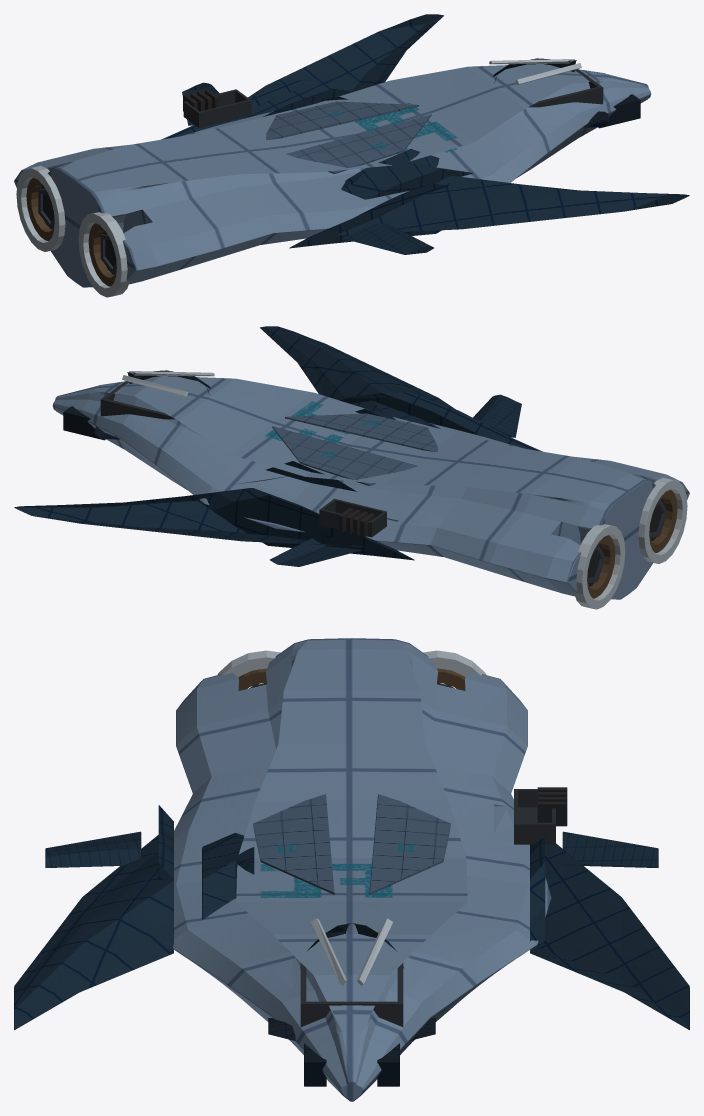
File: hornet_production_v1_lod1.glb
3 views of the same model, one above another, from view 1: azimuth 30°, elevation 25°; view 2: azimuth 150°, elevation 25°; view 3: azimuth 270°, elevation 25° (orthographic). The views are drawn at different scales.
Parts seen in each view (by area): view 1: LOD1_Hull, Wing_Port.001, Wing_Stbd.001, SaddlePanel_Port.001, Wing_Port_RootFairing.001, SaddlePanel_Stbd.001, DriveFlange_Port.001, DriveFlange_Stbd.001, Wing_Port_Flap.001, DriveCeramic_Port.001, DriveCeramic_Stbd.001, CanopyTub_C188_Port.001 (+3 smaller); view 2: LOD1_Hull, Wing_Stbd.001, Wing_Port.001, SaddlePanel_Stbd.001, SaddlePanel_Port.001, DriveFlange_Stbd.001, DriveFlange_Port.001, Wing_Stbd_Flap.001, Wing_Port_Flap.001, DriveCeramic_Stbd.001, DriveCeramic_Port.001, Wing_Stbd_RootFairing.001 (+3 smaller); view 3: LOD1_Hull, Wing_Port.001, Wing_Stbd.001, SaddlePanel_Port.001, SaddlePanel_Stbd.001, Wing_Port_RootFairing.001, Wing_Port_Flap.001, Wing_Stbd_Flap.001, CanopyTub_C188_Fore.001, DriveFlange_Port.001, DriveFlange_Stbd.001, RadiatorCassette_C188_Fore.001 (+2 smaller).
Part boxes in pixels (<box>): LOD1_Hull: <box>14,64,651,287</box>; Wing_Port.001: <box>289,176,689,248</box>; Wing_Stbd.001: <box>161,14,443,139</box>; SaddlePanel_Port.001: <box>286,114,431,173</box>; Wing_Port_RootFairing.001: <box>341,149,473,199</box>; SaddlePanel_Stbd.001: <box>266,101,418,139</box>; DriveFlange_Port.001: <box>78,212,129,297</box>; DriveFlange_Stbd.001: <box>16,165,65,251</box>; Wing_Port_Flap.001: <box>342,222,433,254</box>; DriveCeramic_Port.001: <box>88,223,116,286</box>; DriveCeramic_Stbd.001: <box>26,177,54,240</box>; CanopyTub_C188_Port.001: <box>528,87,599,107</box>; LOD1_Hull: <box>52,376,689,599</box>; Wing_Stbd.001: <box>14,488,414,560</box>; Wing_Port.001: <box>260,326,542,451</box>; SaddlePanel_Stbd.001: <box>272,426,417,485</box>; SaddlePanel_Port.001: <box>285,413,437,451</box>; DriveFlange_Stbd.001: <box>574,524,625,609</box>; DriveFlange_Port.001: <box>638,477,687,563</box>; Wing_Stbd_Flap.001: <box>270,534,361,566</box>; Wing_Port_Flap.001: <box>473,394,521,437</box>; DriveCeramic_Stbd.001: <box>587,535,615,598</box>; DriveCeramic_Port.001: <box>649,489,677,552</box>; Wing_Stbd_RootFairing.001: <box>233,461,356,491</box>; LOD1_Hull: <box>173,638,551,1101</box>; Wing_Port.001: <box>14,805,173,1029</box>; Wing_Stbd.001: <box>530,837,689,1029</box>; SaddlePanel_Port.001: <box>253,794,334,894</box>; SaddlePanel_Stbd.001: <box>369,794,450,894</box>; Wing_Port_RootFairing.001: <box>202,832,254,919</box>; Wing_Port_Flap.001: <box>45,831,141,867</box>; Wing_Stbd_Flap.001: <box>562,831,658,867</box>; CanopyTub_C188_Fore.001: <box>300,1001,403,1026</box>; DriveFlange_Port.001: <box>217,650,280,677</box>; DriveFlange_Stbd.001: <box>423,650,486,677</box>; RadiatorCassette_C188_Fore.001: <box>514,822,555,844</box>.
Size of what is drawn, in the model's own units: 10.53 by 1.87 by 7.76.
11 materials, 7 textured.
